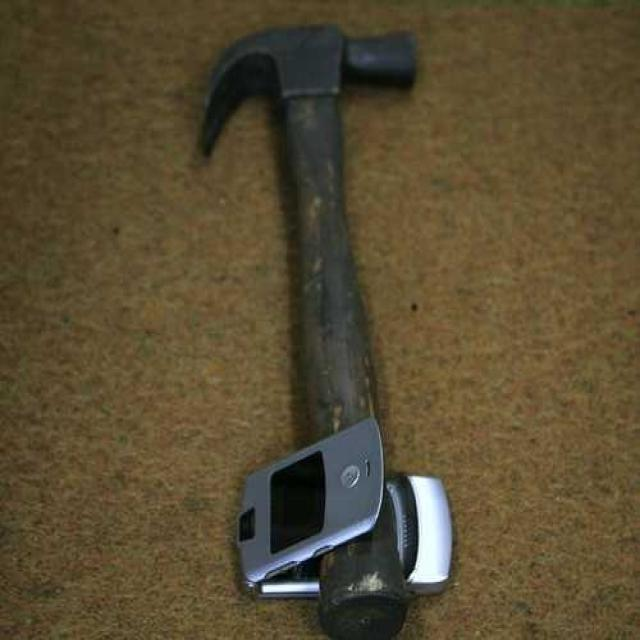hammer: (205, 23, 454, 639)
